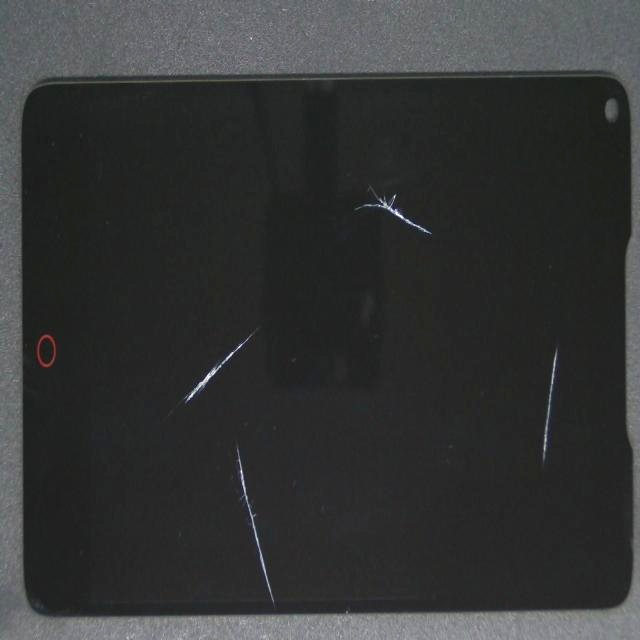scratch: (276, 255, 640, 575), (156, 144, 369, 488), (233, 81, 581, 275), (166, 392, 408, 640)
